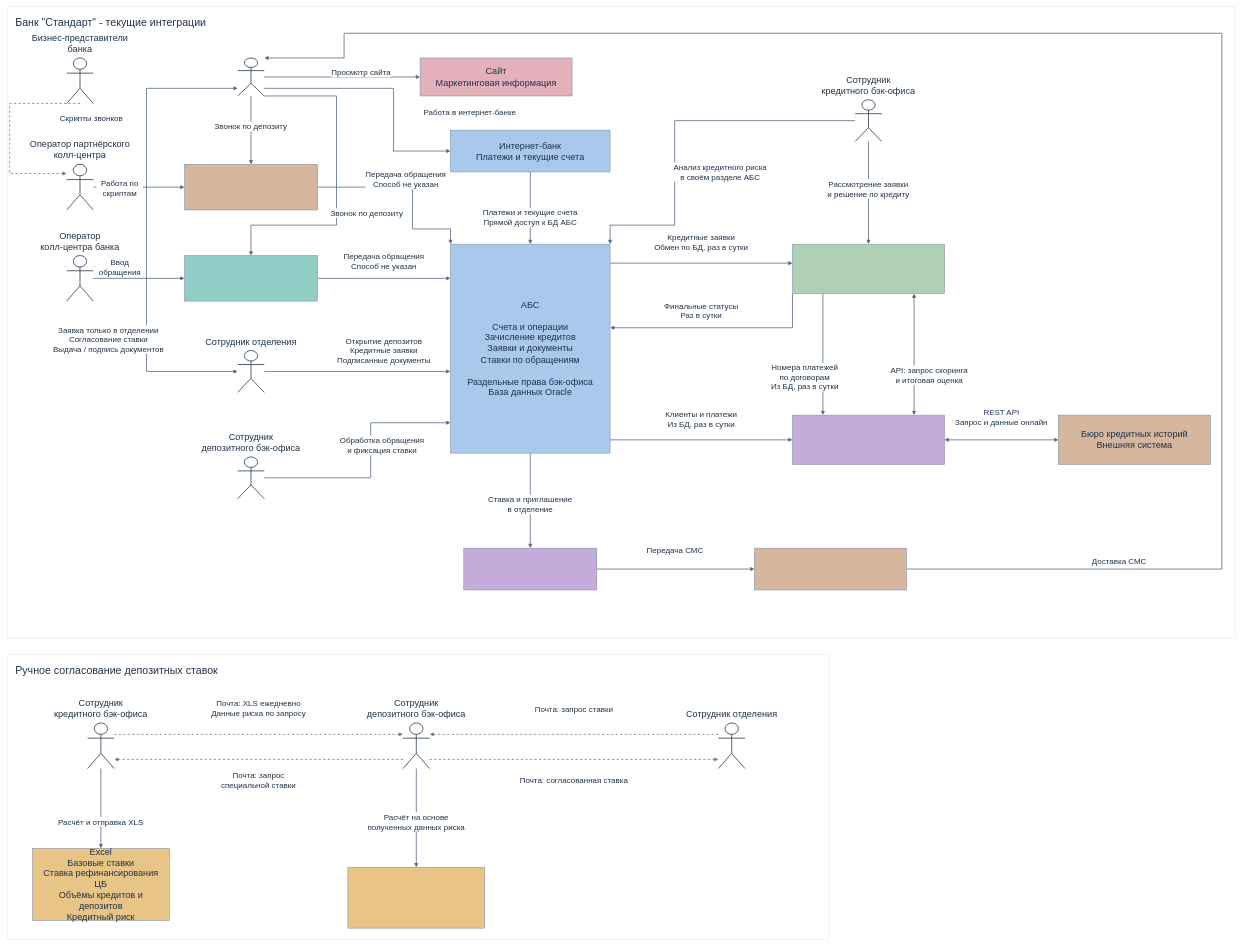
Some shapes in this 1242 by 946 pixel diagram are drawn without their labels. Each missing label, with the box of its shape:
Excel Персональная ставка По данным кредитного риска: (347, 867, 485, 928)
Клиент: (237, 57, 264, 96)
Кредитный конвейер: (792, 244, 945, 294)
Кредитный скоринг Внутренний ML-сервис: (792, 415, 945, 465)
Система колл-центра банка В инфраструктуре банка: (184, 255, 318, 301)
Система партнёрского колл-центра Внешняя система: (184, 164, 318, 210)
СМС-шлюз: (463, 548, 597, 590)
Телеком-оператор Внешняя система: (754, 548, 907, 590)
